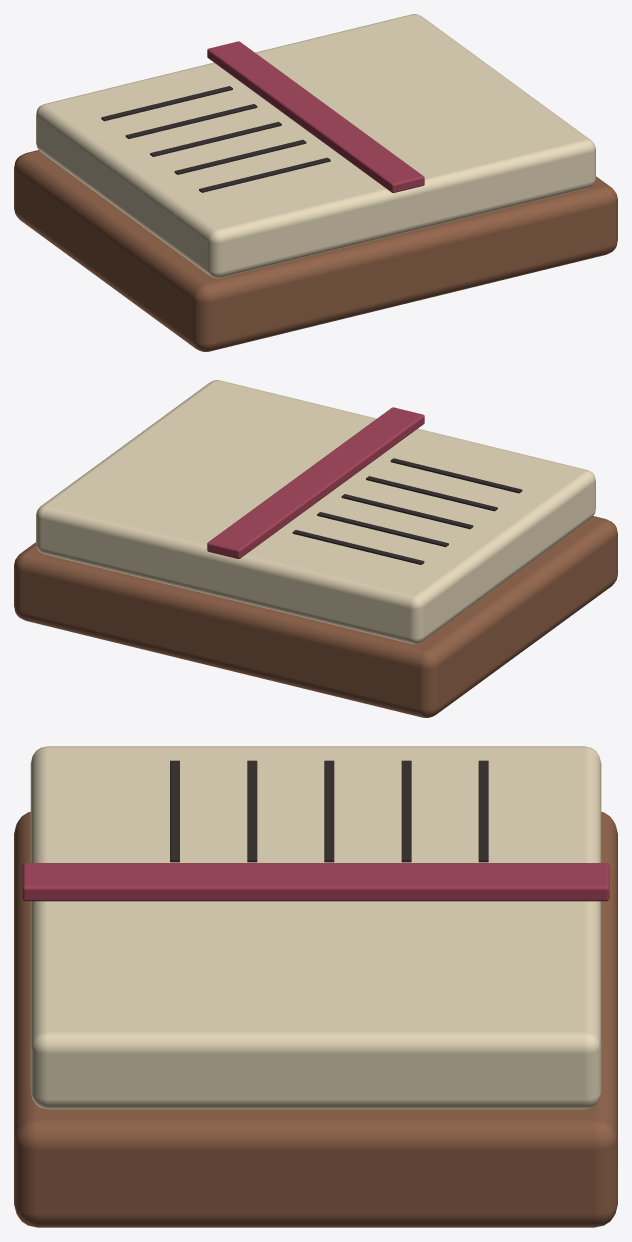
The model's file is griffin-airmail-roost-and-posthouse-dispatch-ledger-4de6cfbb__30531.glb.
3 views of the same model, one above another, from view 1: azimuth 30°, elevation 25°; view 2: azimuth 150°, elevation 25°; view 3: azimuth 270°, elevation 25° (orthographic). The views are drawn at different scales.
Parts seen in each view (by area): view 1: dispatch-ledger; view 2: dispatch-ledger; view 3: dispatch-ledger.
Part boxes in pixels (x1,y1,x2,y2): dispatch-ledger: (14, 14, 617, 351); dispatch-ledger: (14, 380, 617, 717); dispatch-ledger: (14, 746, 617, 1227).
Bounding box in the file's own units: 0.23 × 0.065 × 0.18.
